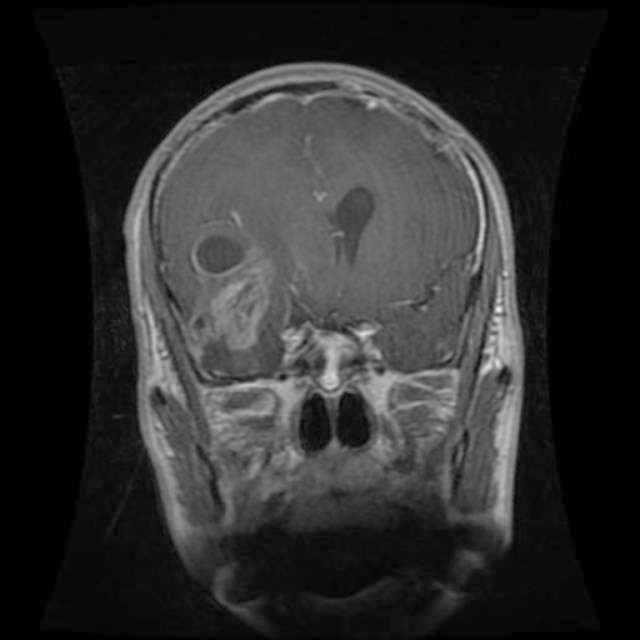pituitary tumor: (208, 242, 276, 352)
